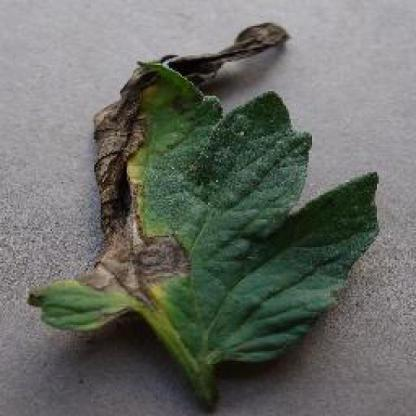Tomato_Blight: (32, 21, 342, 357)
